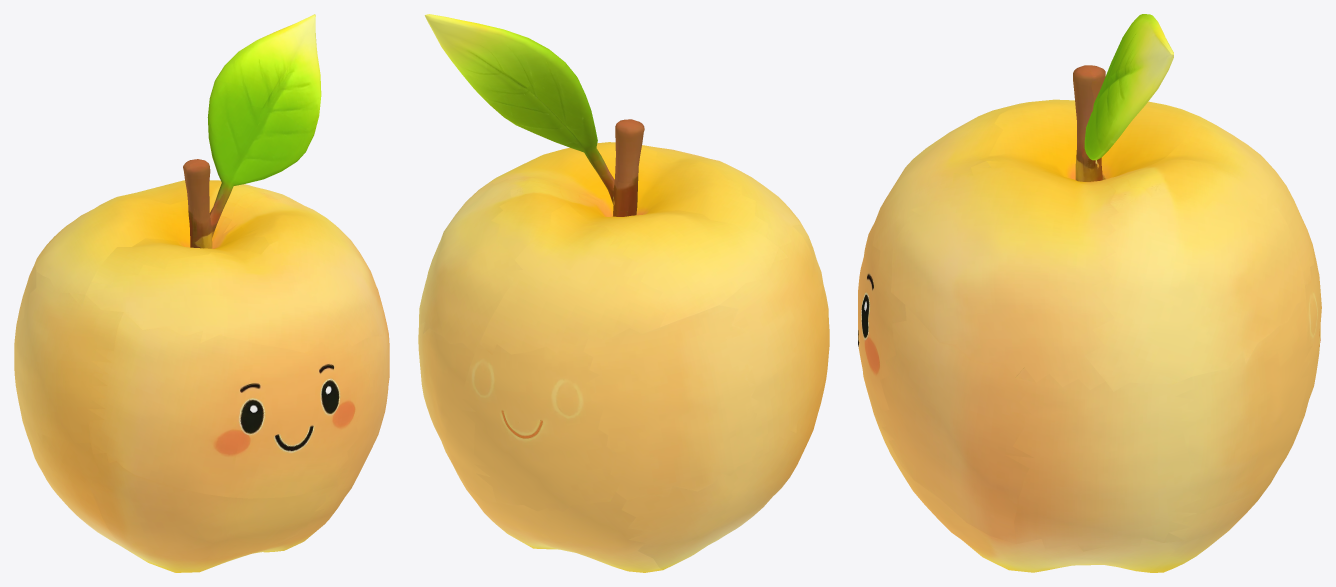
Rendered from s1_gen_apple_gold.glb.
3 views of the same model, side by side, from view 1: azimuth 30°, elevation 25°; view 2: azimuth 150°, elevation 25°; view 3: azimuth 270°, elevation 25° (orthographic). The views are drawn at different scales.
Bounding box in the file's own units: 1.39 × 1.91 × 1.39.
Materials: 1 (1 with a texture image).
